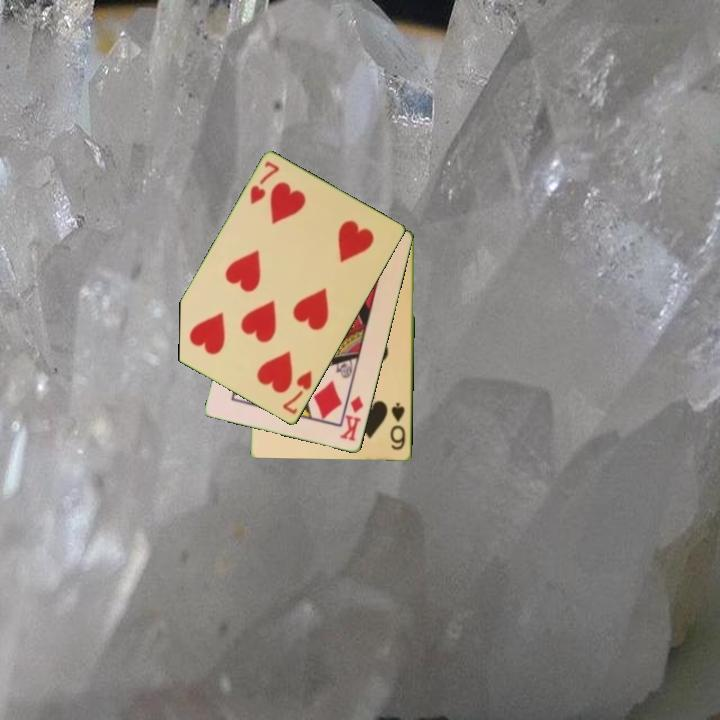6s: (387, 400, 409, 453)
7h: (246, 158, 283, 208), (279, 367, 315, 418)
Kd: (336, 393, 367, 444)
